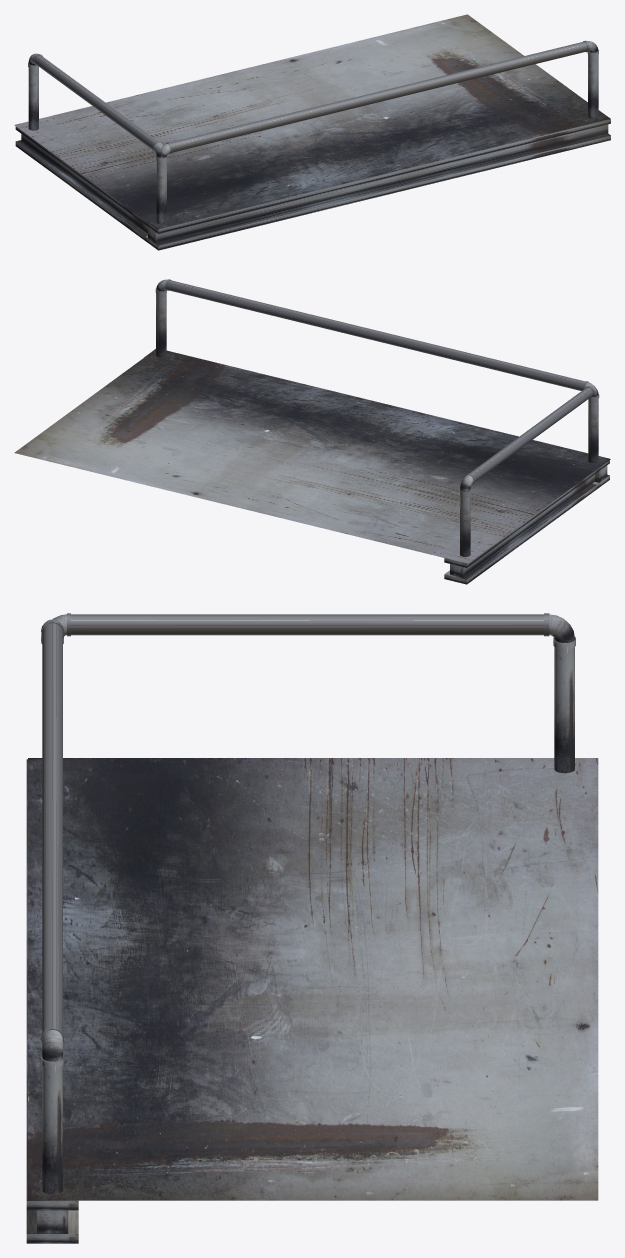
Rendered from catwalk_start.FBX.
The picture shows the model from 3 angles, top to bottom: view 1: azimuth 30°, elevation 25°; view 2: azimuth 150°, elevation 25°; view 3: azimuth 270°, elevation 25°; orthographic projection. The views are drawn at different scales.
Parts seen in each view (by area): view 1: Plane002, Cylinder011, Box007, Box009, Box010, Cylinder013, Box008, Box011, Cylinder010, Cylinder012, Cylinder017, Box012; view 2: Plane002, Cylinder011, Cylinder013, Box008, Box011, Cylinder010, Cylinder012, Box012, Cylinder017, Box010; view 3: Plane002, Cylinder013, Cylinder011, Cylinder012, Cylinder014, Box010, Box009.
Boxes of the visible parts, x1,y1,x2,y2 form: Plane002: (14,14,609,229); Cylinder011: (166,40,598,153); Box007: (148,124,608,243); Box009: (145,133,610,250); Box010: (145,110,610,233); Cylinder013: (28,53,161,151); Box008: (15,140,147,240); Box011: (21,134,147,233); Cylinder010: (156,155,167,224); Cylinder012: (28,62,38,130); Cylinder017: (587,50,598,118); Box012: (15,126,145,223); Plane002: (14,349,610,563); Cylinder011: (156,279,589,390); Cylinder013: (460,386,594,491); Box008: (444,483,596,584); Box011: (450,474,594,577); Cylinder010: (588,393,599,463); Cylinder012: (459,489,470,556); Box012: (444,470,596,567); Cylinder017: (155,288,166,357); Box010: (144,349,609,472); Plane002: (28,758,598,1200); Cylinder013: (67,613,574,642); Cylinder011: (41,620,63,1061); Cylinder012: (553,637,575,773); Cylinder014: (42,1058,62,1194); Box010: (26,759,78,1210); Box009: (26,1210,78,1243).
Size of the model in its own units: 10.03 by 2.08 by 5.47.
1 material, 1 textured.
